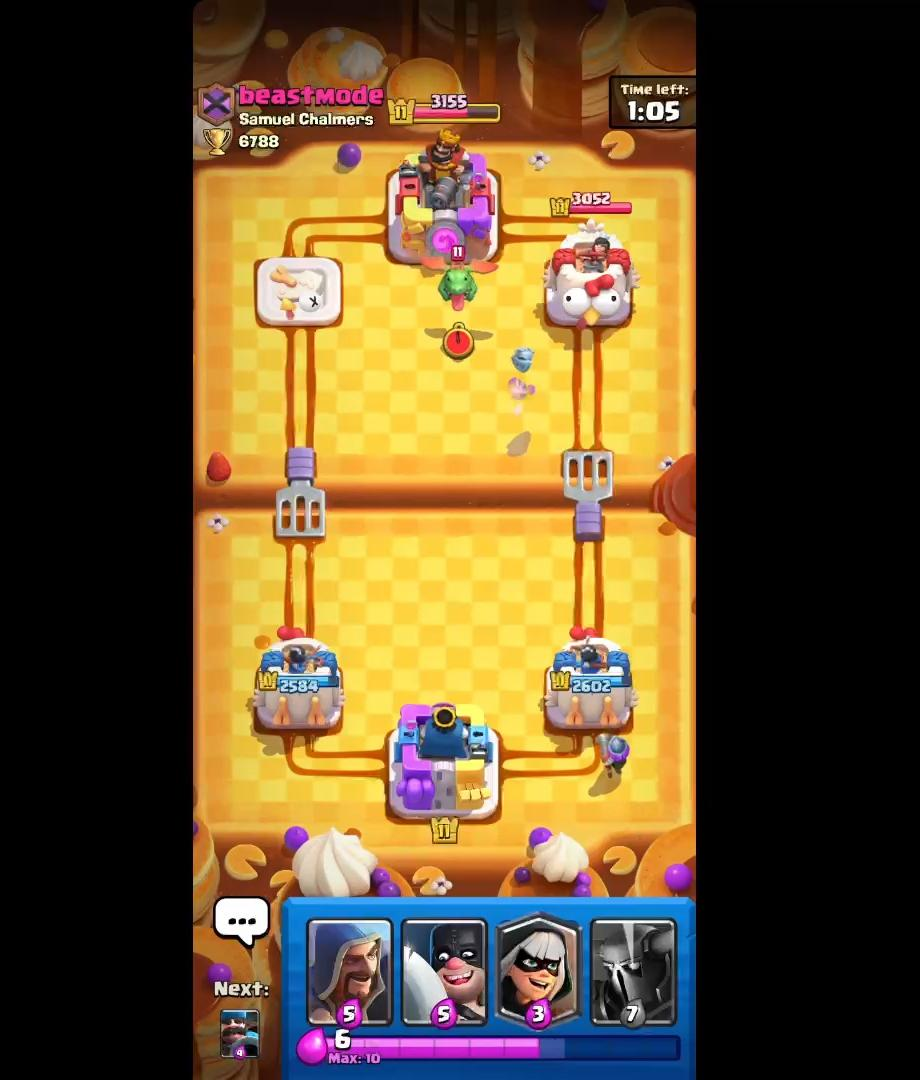Baby Dragon: (422, 241, 505, 315)
